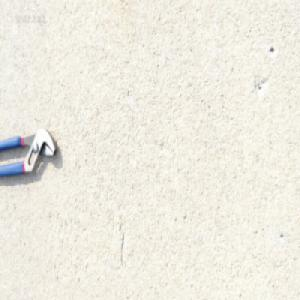Pliers: (0, 126, 58, 180)
